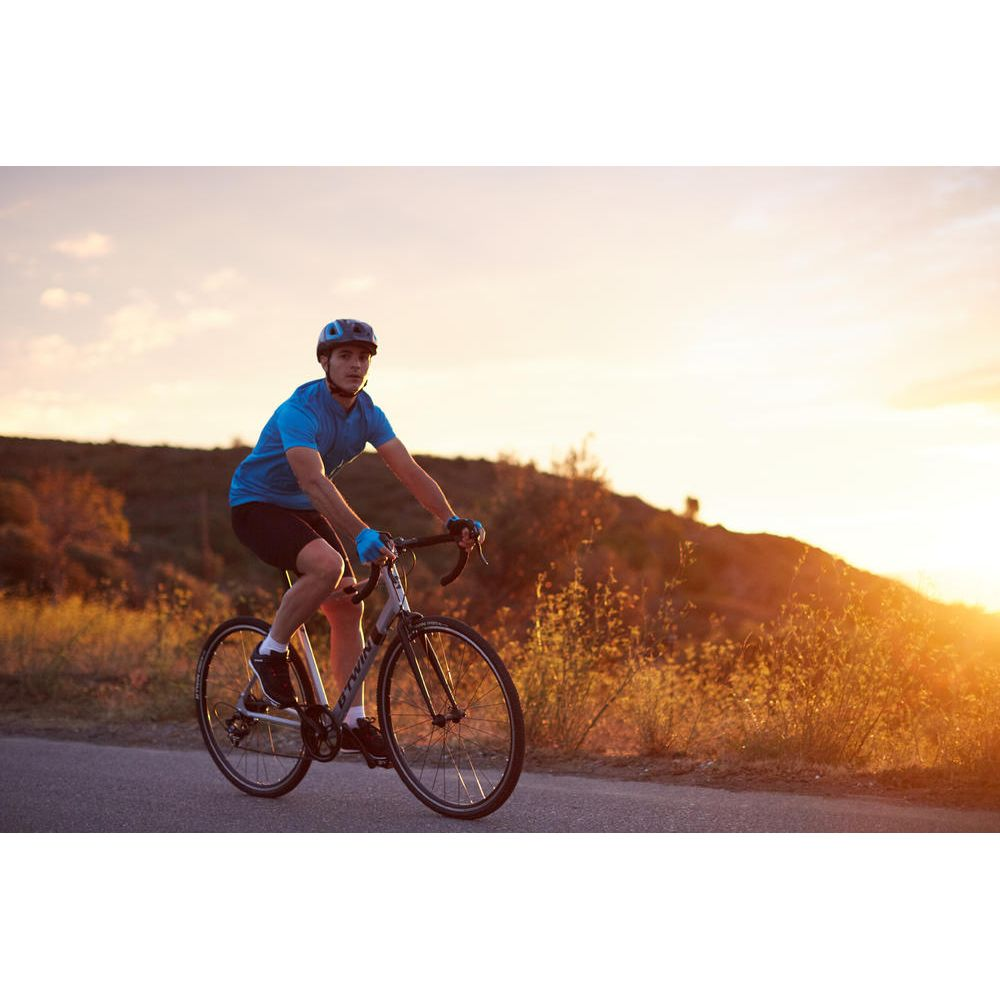RoadBike: (205, 517, 522, 811)
